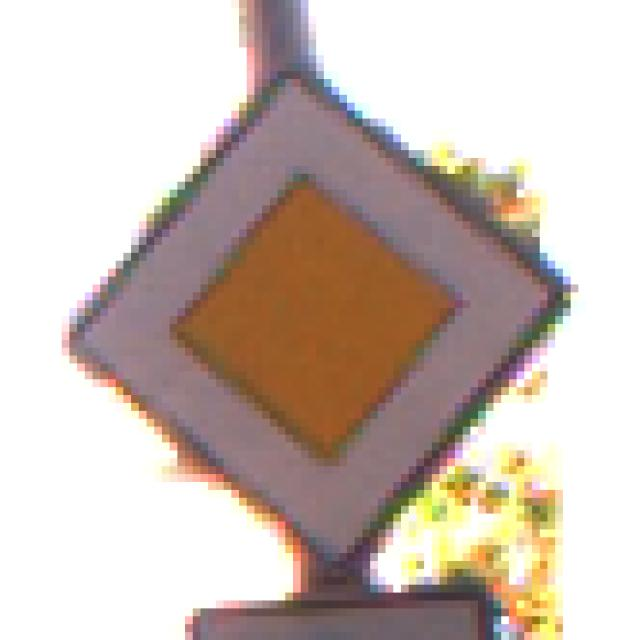Main Road: (55, 64, 579, 578)
